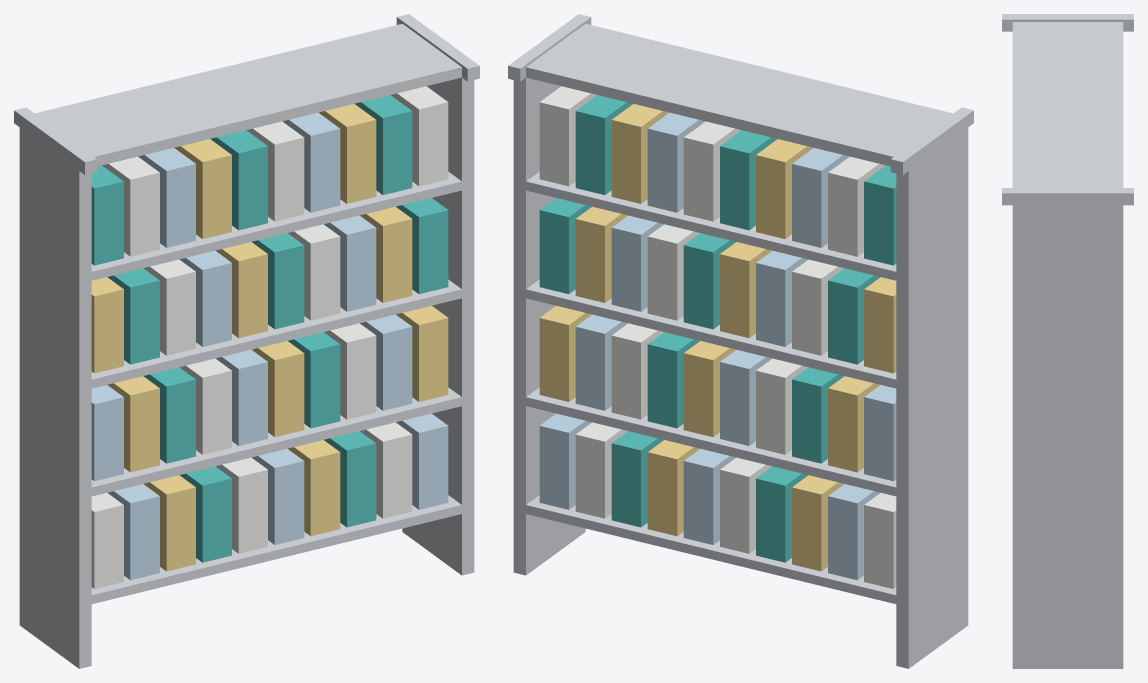
File: stock_shelf.glb
3 views of the same model, side by side, from view 1: azimuth 30°, elevation 25°; view 2: azimuth 150°, elevation 25°; view 3: azimuth 270°, elevation 25° (orthographic). The views are drawn at different scales.
Parts seen in each view (by area): view 1: records-shelving; view 2: records-shelving; view 3: records-shelving.
Part boxes in pixels (x1,y1,x2,y2): records-shelving: (14,14,479,668); records-shelving: (508,14,973,668); records-shelving: (1002,14,1133,668).
Size of the model in its own units: 1.61 by 1.99 by 0.5.
